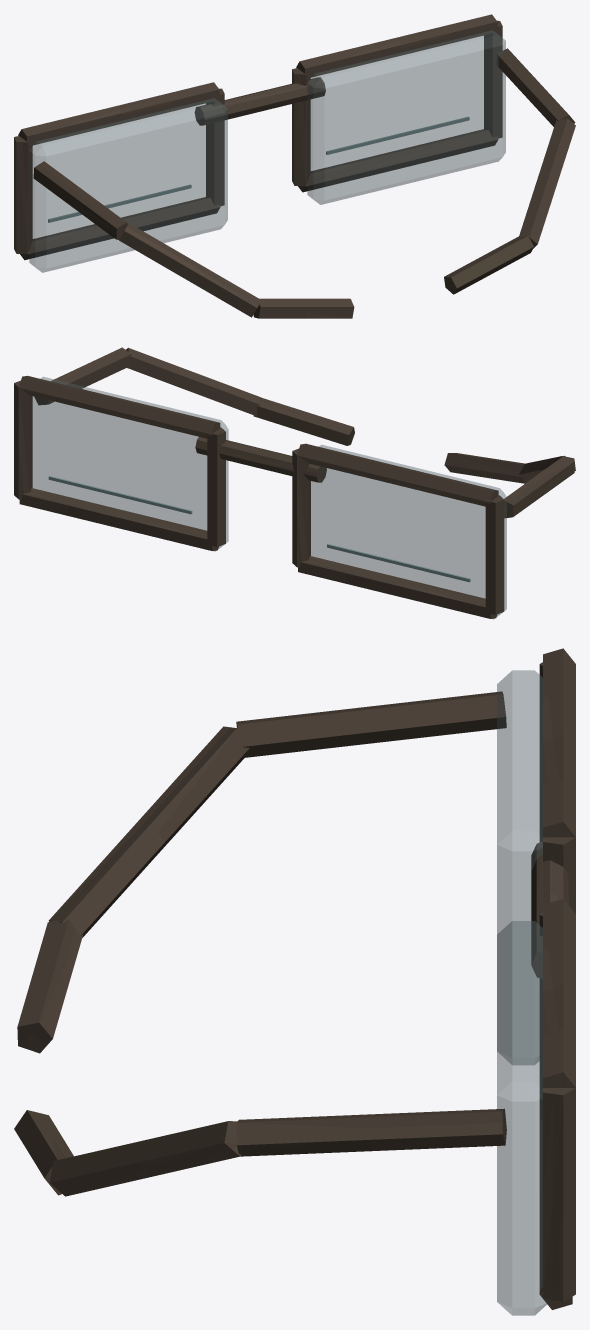
The model's file is sunglasses_bifocal.glb.
3 views of the same model, one above another, from view 1: azimuth 30°, elevation 25°; view 2: azimuth 150°, elevation 25°; view 3: azimuth 270°, elevation 25° (orthographic). The views are drawn at different scales.
Parts seen in each view (by area): view 1: block_lens 1, block_lens -1, block_lens rim 1 1, block_lens rim -1 1, block_lens rim 1 3, block_folded temple -1 1, block_lens rim -1 3, block_folded temple 1 1, block_bridge, block_folded temple -1 0, block_lens rim -1 0, block_folded temple -1 2 (+7 smaller); view 2: block_lens -1, block_lens 1, block_lens rim -1 1, block_lens rim 1 1, block_lens rim -1 3, block_lens rim 1 3, block_folded temple 1 1, block_lens rim -1 0, block_lens rim 1 0, block_folded temple 1 2, block_bridge, block_lens rim 1 2 (+7 smaller); view 3: block_lens 1, block_lens -1, block_folded temple 1 0, block_folded temple -1 0, block_folded temple -1 1, block_folded temple 1 1, block_lens rim 1 2, block_lens rim -1 1, block_lens rim 1 1, block_folded temple -1 2, block_bridge, block_folded temple 1 2 (+2 smaller).
Boxes of the visible parts, x1,y1,x2,y2 form: block_lens 1: (307, 30, 505, 204); block_lens -1: (29, 98, 227, 272); block_lens rim 1 1: (296, 14, 497, 78); block_lens rim -1 1: (18, 82, 219, 146); block_lens rim 1 3: (298, 129, 498, 192); block_folded temple -1 1: (119, 223, 261, 317); block_lens rim -1 3: (20, 197, 220, 260); block_folded temple 1 1: (519, 118, 575, 248); block_bridge: (194, 77, 325, 125); block_folded temple -1 0: (33, 161, 128, 239); block_lens rim -1 0: (14, 136, 32, 254); block_folded temple -1 2: (253, 298, 354, 318); block_lens -1: (310, 444, 506, 619); block_lens 1: (32, 376, 228, 551); block_lens rim -1 1: (297, 443, 498, 506); block_lens rim 1 1: (19, 375, 220, 438); block_lens rim -1 3: (298, 556, 497, 618); block_lens rim 1 3: (19, 488, 218, 550); block_folded temple 1 1: (126, 347, 260, 416); block_lens rim -1 0: (485, 495, 504, 614); block_lens rim 1 0: (207, 427, 225, 546); block_folded temple 1 2: (253, 397, 354, 445); block_bridge: (195, 437, 326, 482); block_lens rim 1 2: (14, 380, 32, 499); block_lens 1: (497, 921, 546, 1315); block_lens -1: (497, 670, 542, 1064); block_folded temple 1 0: (236, 1108, 506, 1156); block_folded temple -1 0: (236, 691, 506, 757); block_folded temple -1 1: (48, 726, 249, 937); block_folded temple 1 1: (49, 1121, 241, 1196); block_lens rim 1 2: (543, 1088, 575, 1301); block_lens rim -1 1: (543, 648, 575, 837); block_lens rim 1 1: (543, 899, 575, 1087); block_folded temple -1 2: (17, 919, 83, 1053); block_bridge: (531, 841, 568, 979); block_folded temple 1 2: (14, 1110, 73, 1195).
Size of the model in its own units: 0.1669 by 0.0444 by 0.0904.
2 materials, 2 textured.
